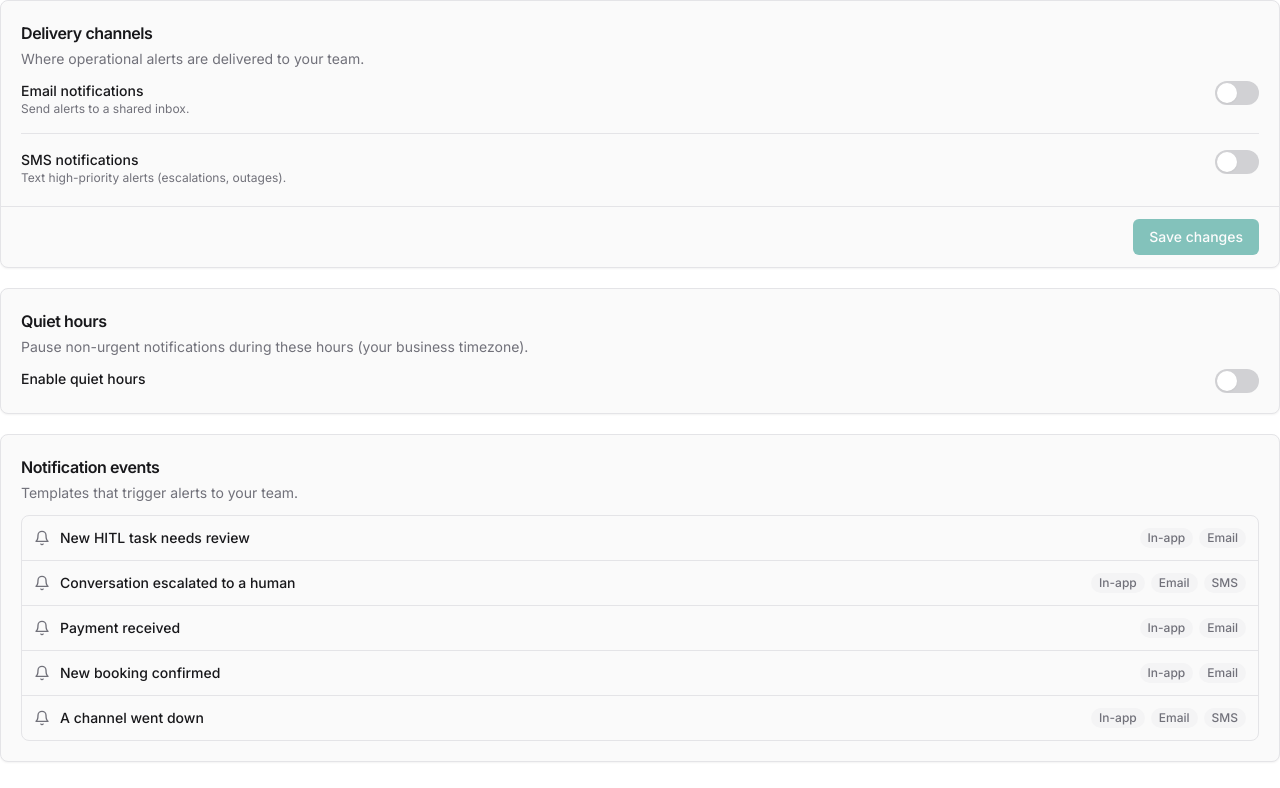
Test: NotificationsPage › hides the email box when email alerts are off
The width and height of the screenshot is (1280, 788).
Click the switch named "Email notifications": (1237, 93) [1215,81,1259,105]
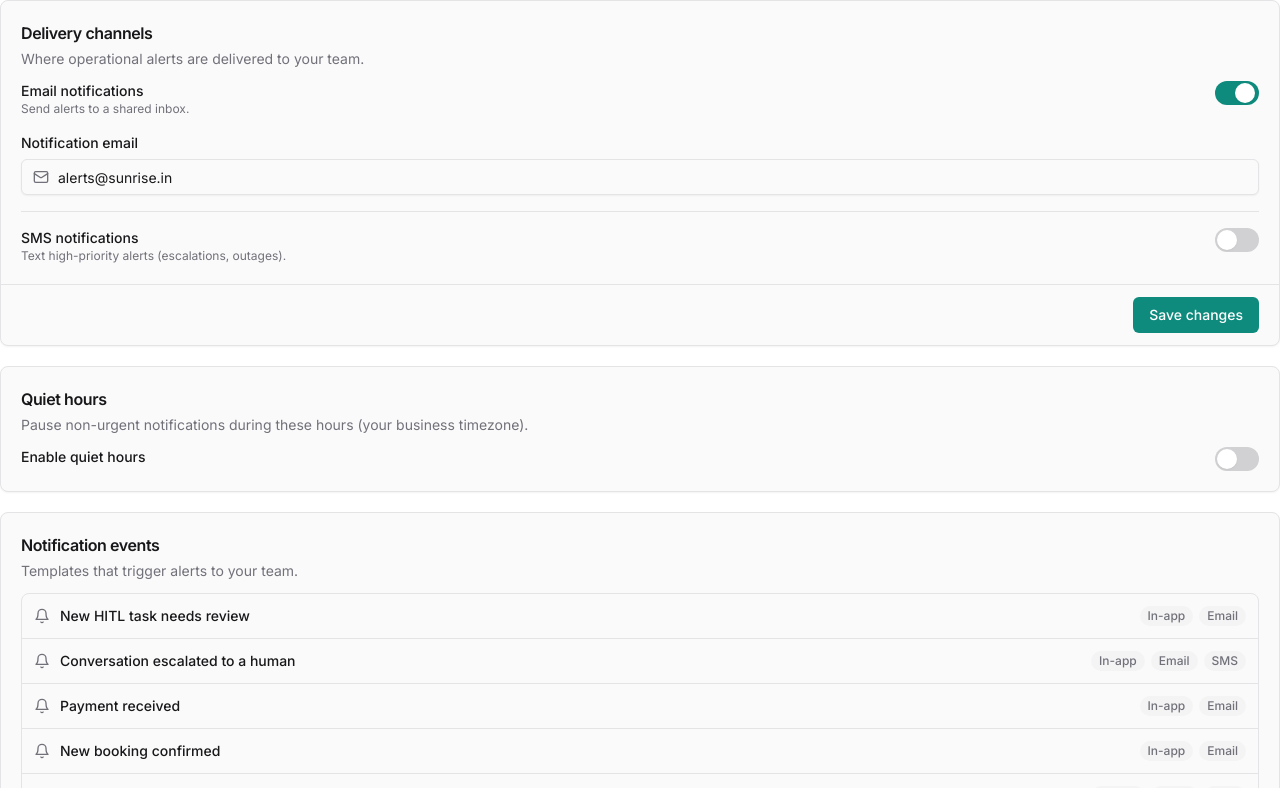
Check: the field with placeholder "alerts@business.in" is shown, box [21,159,1259,195]
